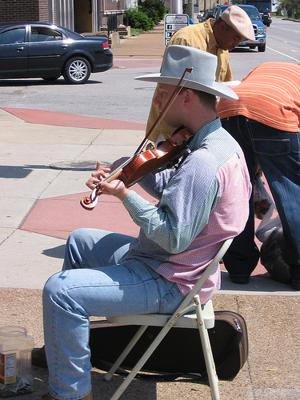person: (31, 44, 254, 400)
